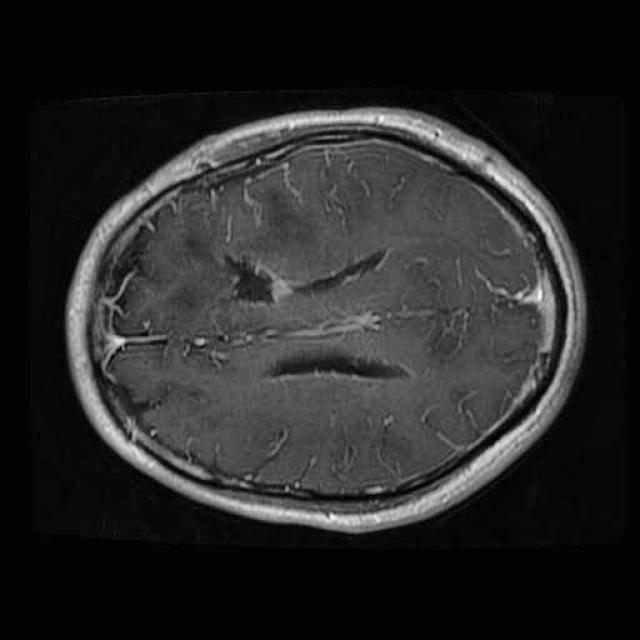Tumor: (130, 160, 326, 311)
